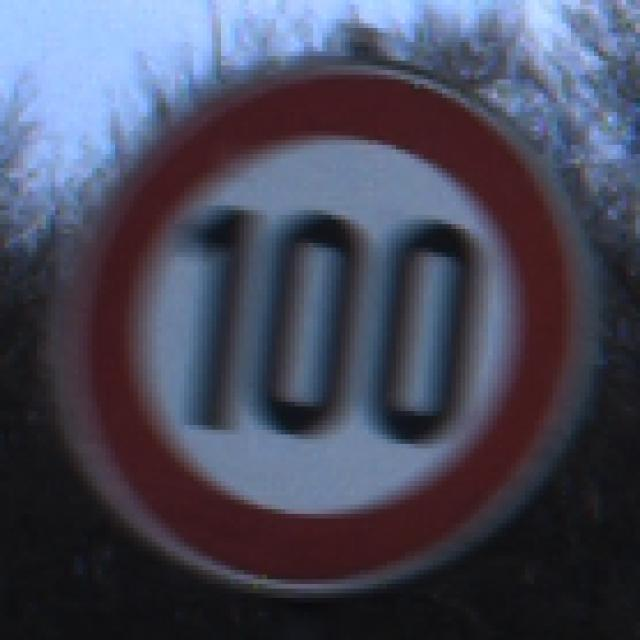speed limit 100: (55, 62, 584, 596)
